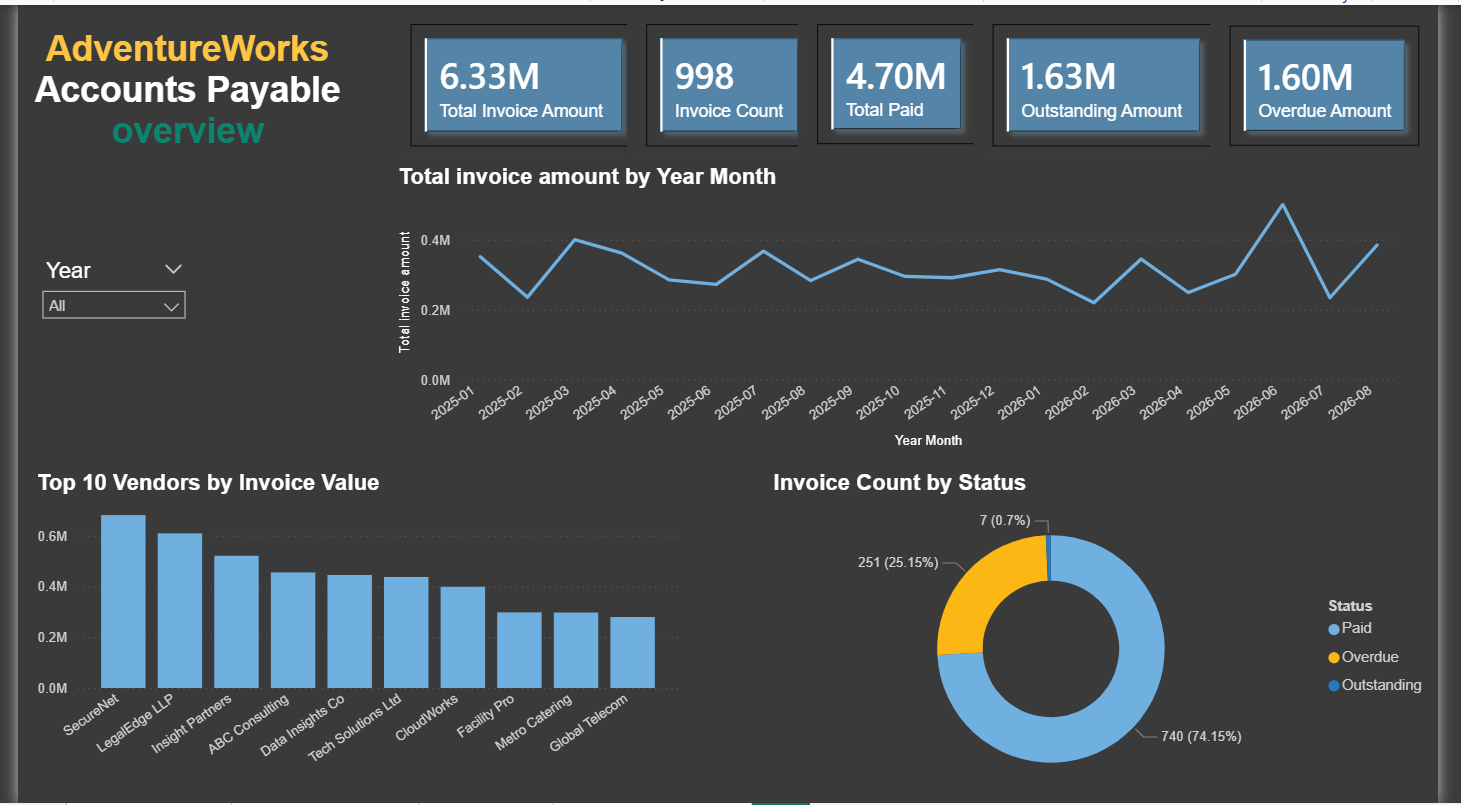

The page's visual inventory and layout, read from the dashboard file:
{"tool":"powerbi","page":{"name":"AP Overview","canvas":[1280,720],"ordinal":0},"visuals":[{"type":"cardVisual","fields":{"Data":["Fact_Invoice.Total invoice amount"]},"box":[337.1,0,238.6,144.3],"z":0},{"type":"cardVisual","fields":{"Data":["Fact_Invoice.Invoice Count"]},"box":[548.6,0,184.3,144.3],"z":1000},{"type":"cardVisual","fields":{"Data":["Fact_Invoice.Total Paid"]},"box":[702.9,0,177.1,142.9],"z":2000},{"type":"cardVisual","fields":{"Data":["Fact_Invoice.Total Outstanding"]},"box":[861.4,0,234.3,144.3],"z":3000},{"type":"cardVisual","fields":{"Data":["Fact_Invoice.Overdue Amount"]},"box":[1074.3,1.4,205.7,142.9],"z":4000},{"type":"lineChart","fields":{"Category":["Dim_Date.Year Month"],"Y":["Fact_Invoice.Total invoice amount"]},"box":[337.7,143.8,908.5,260.4],"z":5000},{"type":"donutChart","title":"Invoice Count by Status","fields":{"Category":["Fact_Invoice.Status"],"Y":["CountNonNull(Fact_Invoice.Invoice_ID)"]},"box":[675.3,419.4,604.2,299.8],"z":6000},{"type":"columnChart","title":"Top 10 Vendors by Invoice Value","fields":{"Category":["Dim_Vendor.Vendor_Name"],"Y":["Fact_Invoice.Total invoice amount"]},"box":[12.1,419.4,587.5,277.1],"z":7000},{"type":"slicer","fields":{"Values":["Dim_Date.Year"]},"box":[12.1,222.6,148.4,104.5],"z":8000},{"type":"textbox","box":[0,15.7,305.7,141.4],"z":9000}]}

Visuals, with their boxes in screenshot pixels (x1, y1, x2, y2), scaled from the page's 1280x720 canvas onto the 1461x805 screenshot:
cardVisual - Fact_Invoice.Total invoice amount: region(385, 0, 657, 161)
cardVisual - Fact_Invoice.Invoice Count: region(626, 0, 837, 161)
cardVisual - Fact_Invoice.Total Paid: region(802, 0, 1004, 160)
cardVisual - Fact_Invoice.Total Outstanding: region(983, 0, 1251, 161)
cardVisual - Fact_Invoice.Overdue Amount: region(1226, 2, 1460, 161)
lineChart - Dim_Date.Year Month x Fact_Invoice.Total invoice amount: region(385, 161, 1422, 452)
"Invoice Count by Status" donutChart: region(771, 469, 1460, 804)
"Top 10 Vendors by Invoice Value" columnChart: region(14, 469, 684, 779)
slicer - Dim_Date.Year: region(14, 249, 183, 366)
textbox: region(0, 18, 349, 176)
